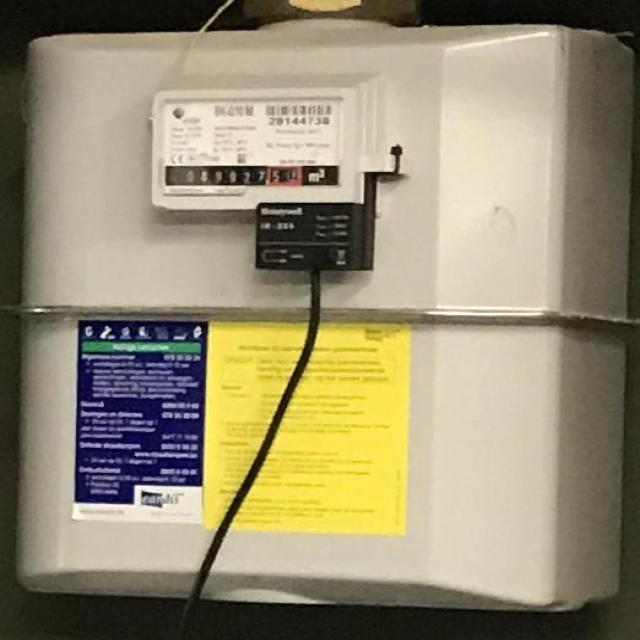gaz_meter: (155, 95, 363, 209)
indication: (173, 165, 305, 186)
